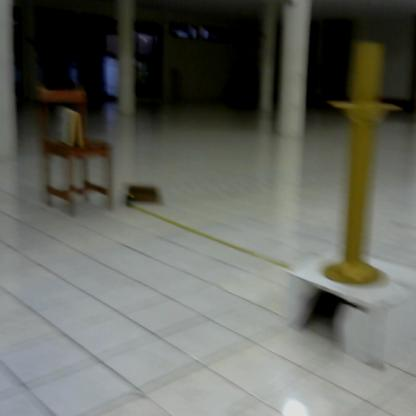pole: (308, 34, 414, 297)
